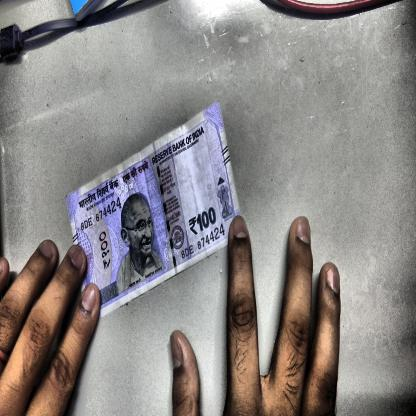Rs100: (186, 202, 220, 242)
